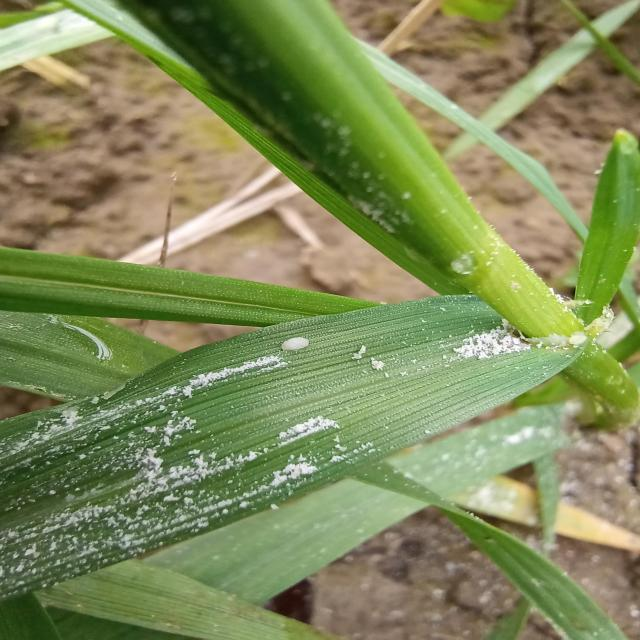Powdery Mildew: (3, 302, 583, 608), (159, 24, 528, 298)
